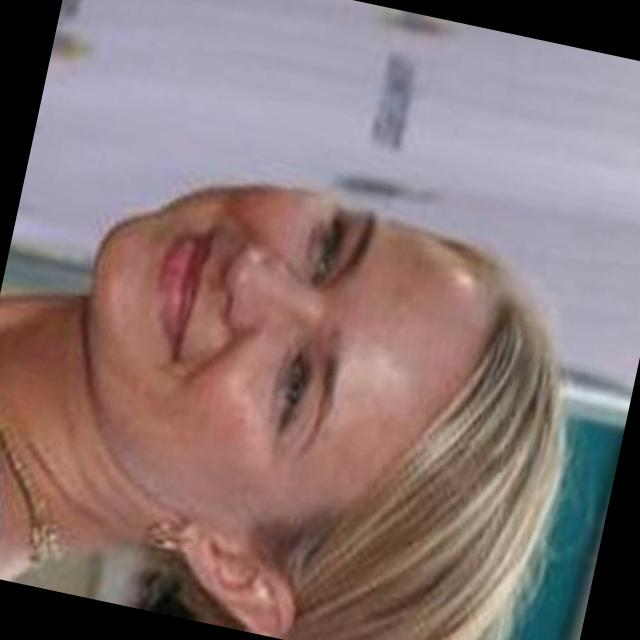bareface: (37, 152, 444, 521)
